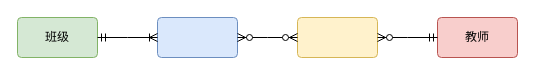
The diagram is 535 pixels wide and 75 high, and some of its shapes have lost their labels. The shapes that lost their labels are listed below. From the top down, each one's centre as x and y in pixels, then its label:
At [197,37]: "学生".
At [337,37]: "课程".
